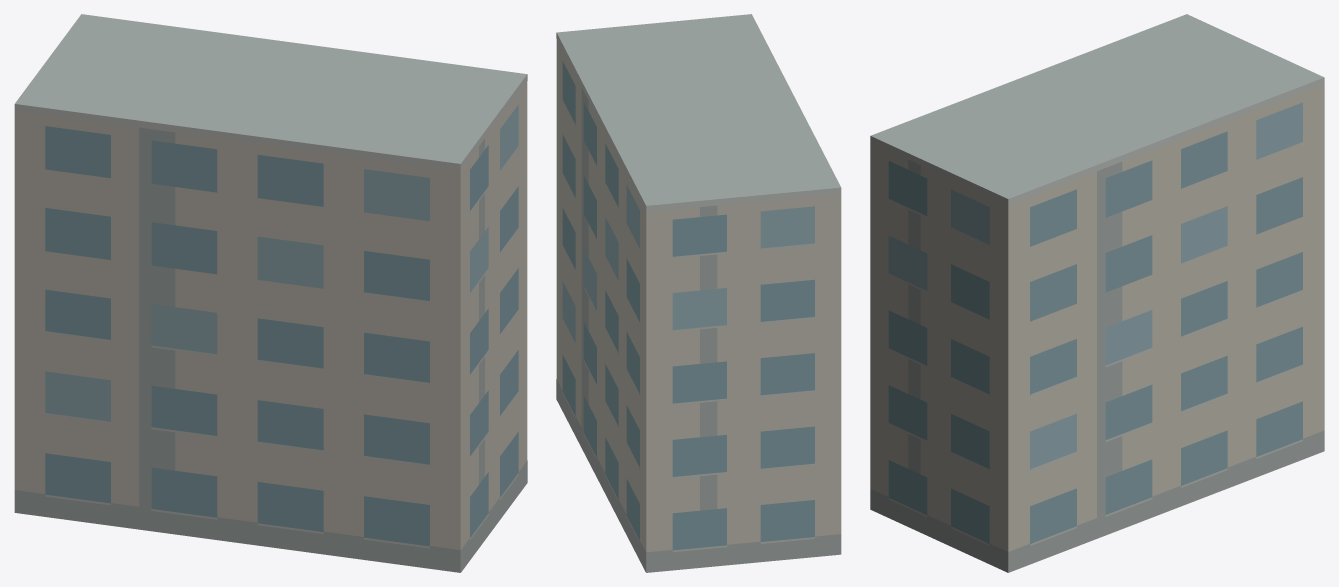
File: survey-upis-32694002.glb
3 views of the same model, side by side, from view 1: azimuth 30°, elevation 25°; view 2: azimuth 150°, elevation 25°; view 3: azimuth 270°, elevation 25° (orthographic). The views are drawn at different scales.
Parts seen in each view (by area): view 1: survey-upis-32694002.tmp; view 2: survey-upis-32694002.tmp; view 3: survey-upis-32694002.tmp.
Boxes of the visible parts, bbox=[...] form: survey-upis-32694002.tmp: bbox=[14, 14, 527, 572]; survey-upis-32694002.tmp: bbox=[556, 14, 841, 572]; survey-upis-32694002.tmp: bbox=[870, 14, 1324, 572].
Bounding box in the file's own units: 15.3 × 14.4 × 15.87.
